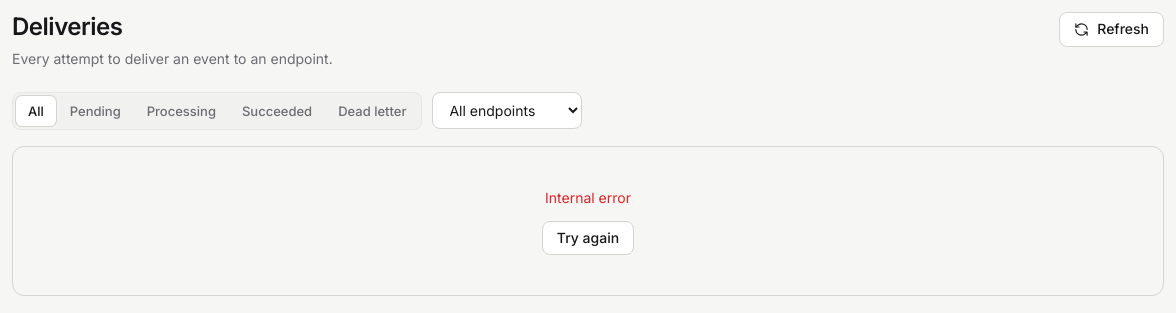
Test: DeliveriesPage › shows an error with retry, then recovers
expect the message shows "Internal error": met, box [545, 189, 631, 206]
Click the button "Try again" at (588, 238), box [542, 220, 634, 255]
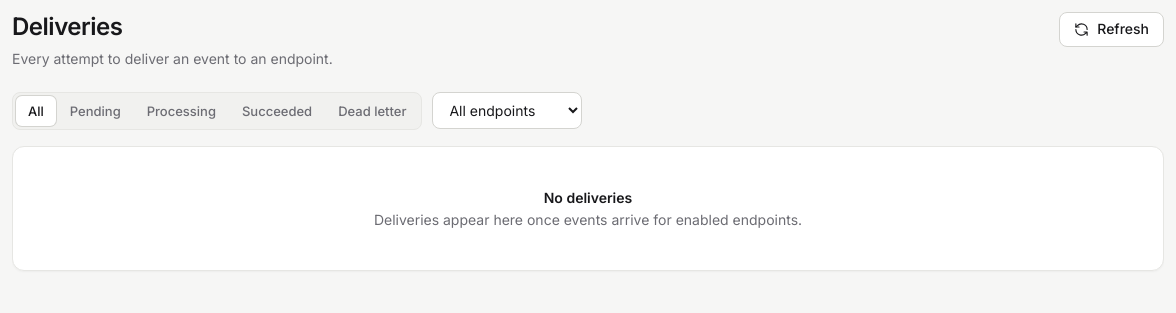
expect the text "No deliveries" is shown: met, box [544, 189, 632, 206]
